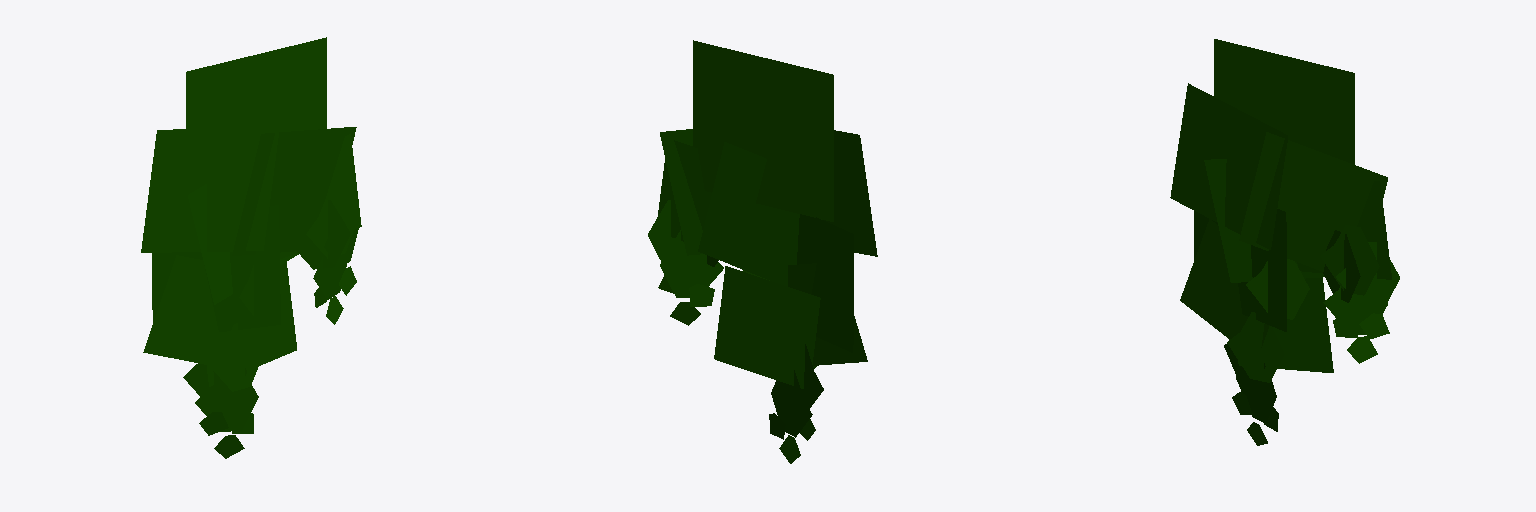
Rendered from Prop_Vine1.obj.
3 views of the same model, side by side, from view 1: azimuth 30°, elevation 25°; view 2: azimuth 150°, elevation 25°; view 3: azimuth 330°, elevation 25° (orthographic).
Parts seen in each view (by area): view 1: Prop_Vine1; view 2: Prop_Vine1; view 3: Prop_Vine1.
Boxes of the visible parts, box(x1,y1,x2,y2) form: Prop_Vine1: box(141, 37, 361, 458); Prop_Vine1: box(648, 40, 877, 463); Prop_Vine1: box(1170, 39, 1399, 445).
Bounding box in the file's own units: 1.54 × 2.6 × 0.219.